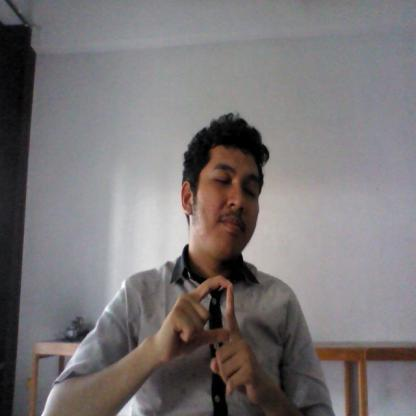D: (152, 274, 260, 404)
